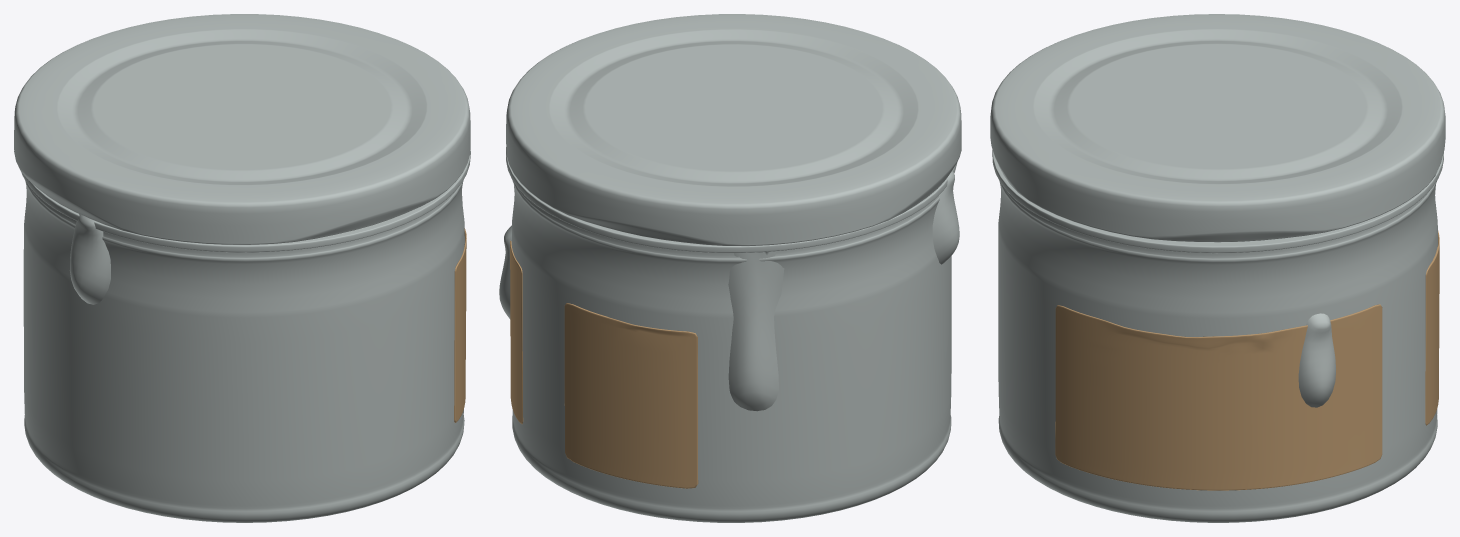
File: paint_container_jar_orange_a01.glb
The picture shows the model from 3 angles, left to right: view 1: azimuth 30°, elevation 25°; view 2: azimuth 150°, elevation 25°; view 3: azimuth 270°, elevation 25°; orthographic projection.
Size of the model in its own units: 0.097 by 0.077 by 0.0969.
